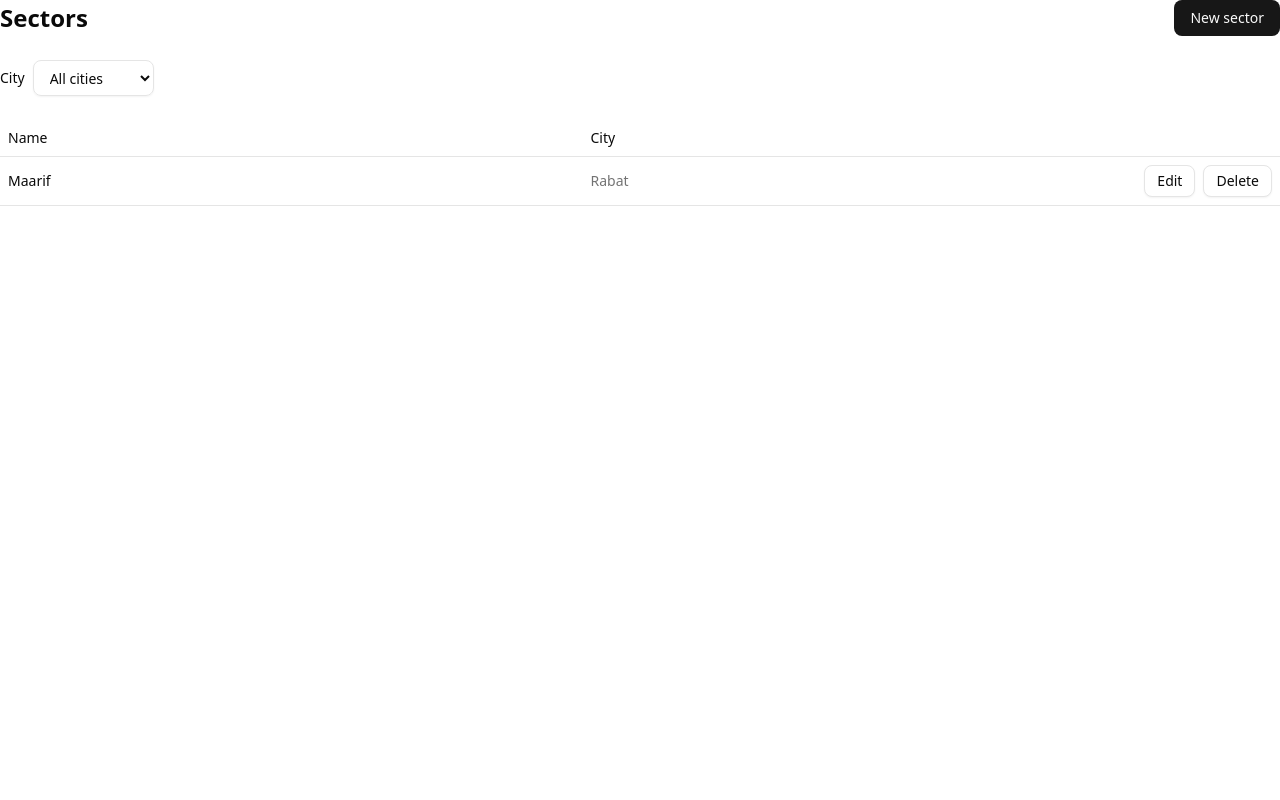
Test: create / edit / delete › seeds the edit drawer with the row's name AND ville
This screenshot has width=1280, height=800.
Click the button with aria-label "edit maarif": (1170, 181) [1144,165,1196,197]
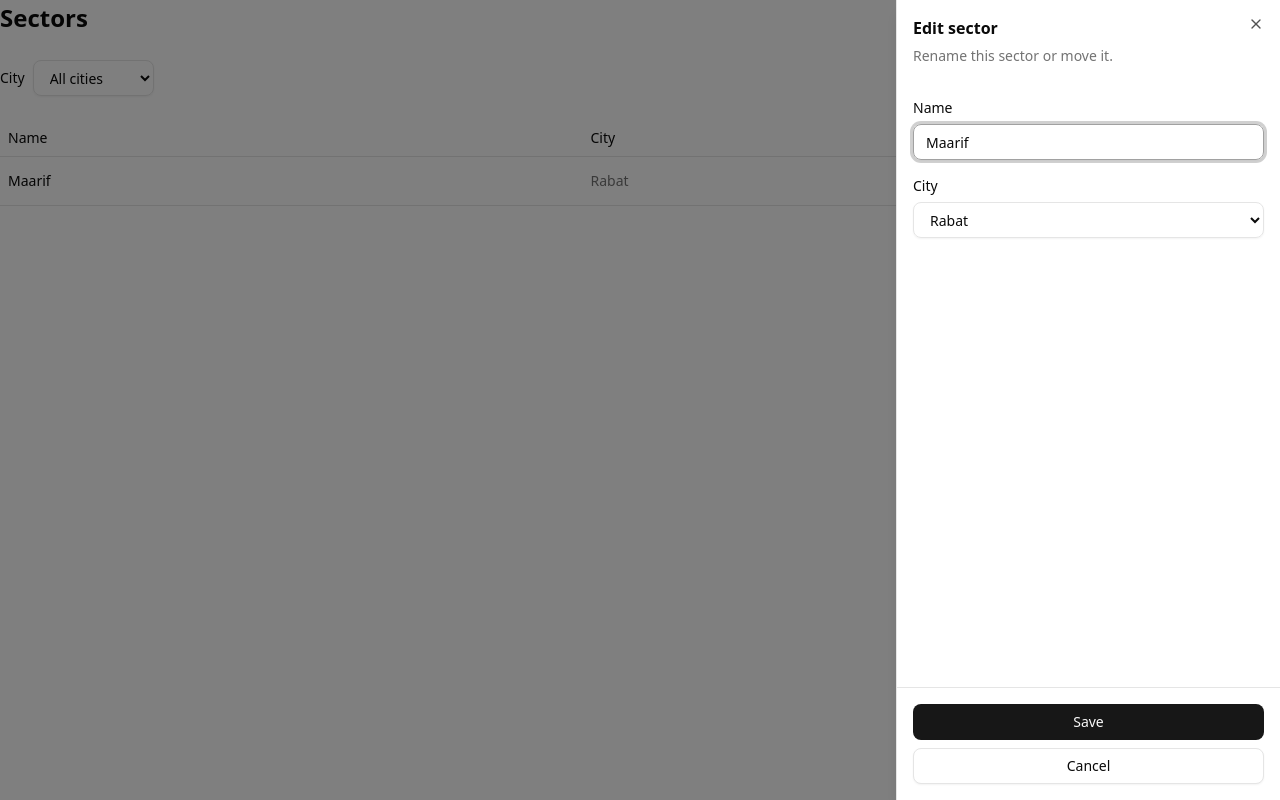
Expected: the field labelled "Name" holds "Maarif", [913,124,1264,160]
Expected: the dropdown labelled "City" shows "Rabat", [913,202,1264,238]
